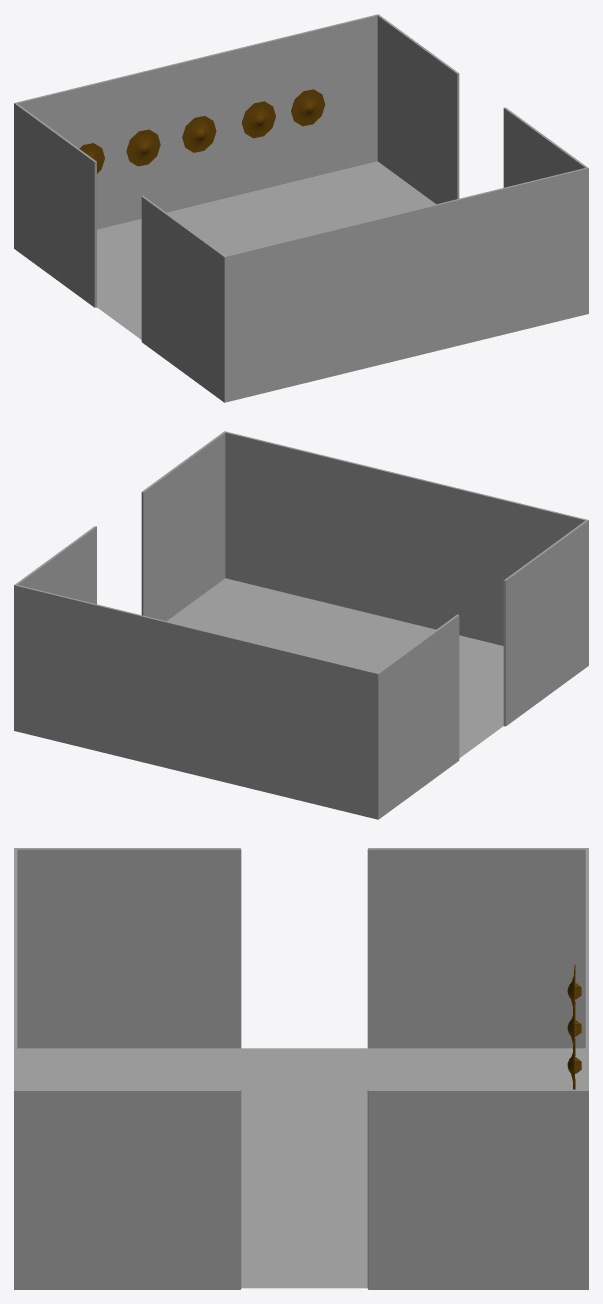
File: Coloured shield room.fbx
3 renders of one model, top to bottom at view 1: azimuth 30°, elevation 25°; view 2: azimuth 150°, elevation 25°; view 3: azimuth 270°, elevation 25°, orthographic. The views are drawn at different scales.
Parts seen in each view (by area): view 1: pPlane116; view 2: pPlane116; view 3: pPlane116.
Part boxes in pixels (x1,y1,x2,y2): pPlane116: (14, 14, 588, 402); pPlane116: (14, 431, 588, 819); pPlane116: (14, 848, 588, 1289).
Bounding box in the file's own units: 0.9711 × 0.3708 × 0.9716.
